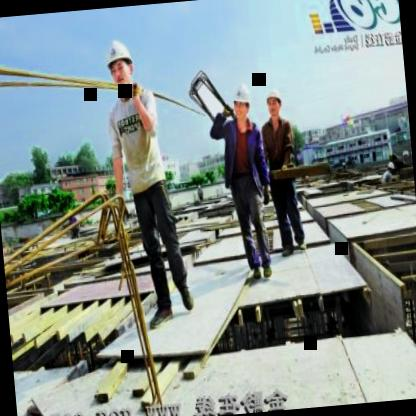helmet: (100, 31, 139, 97), (232, 79, 256, 127), (261, 88, 286, 122)
